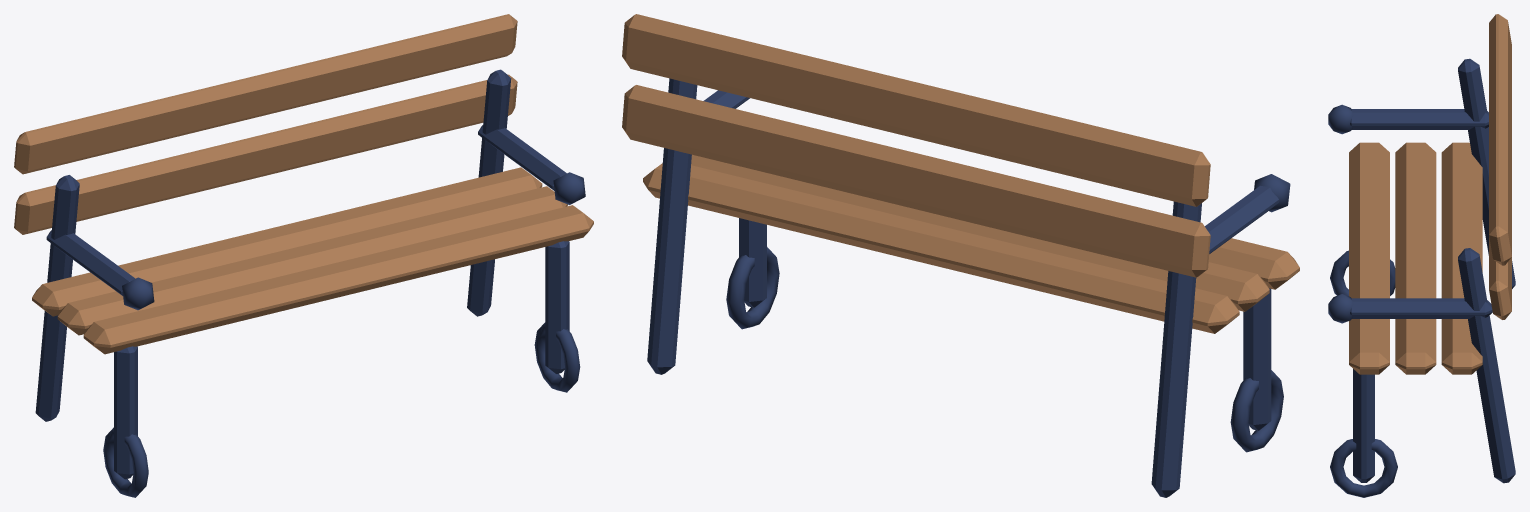
File: ac_bench.glb
3 renders of one model, left to right at view 1: azimuth 30°, elevation 25°; view 2: azimuth 150°, elevation 25°; view 3: azimuth 270°, elevation 25°, orthographic. The views are drawn at different scales.
Parts seen in each view (by area): view 1: box; view 2: box; view 3: box.
Part boxes in pixels (left/top/right/bottom): box: left=14, top=14, right=593, bottom=497; box: left=622, top=14, right=1299, bottom=497; box: left=1328, top=14, right=1515, bottom=497.
Size of the model in its own units: 1.9 by 1.14 by 0.6871.
